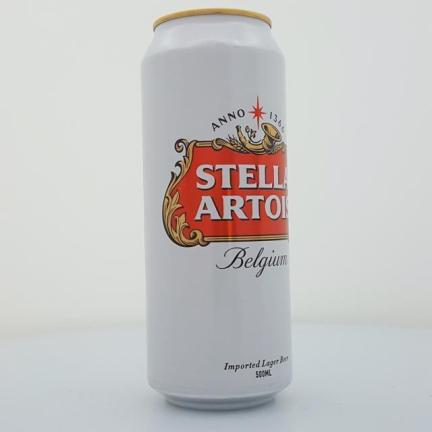can: (142, 9, 292, 409)
